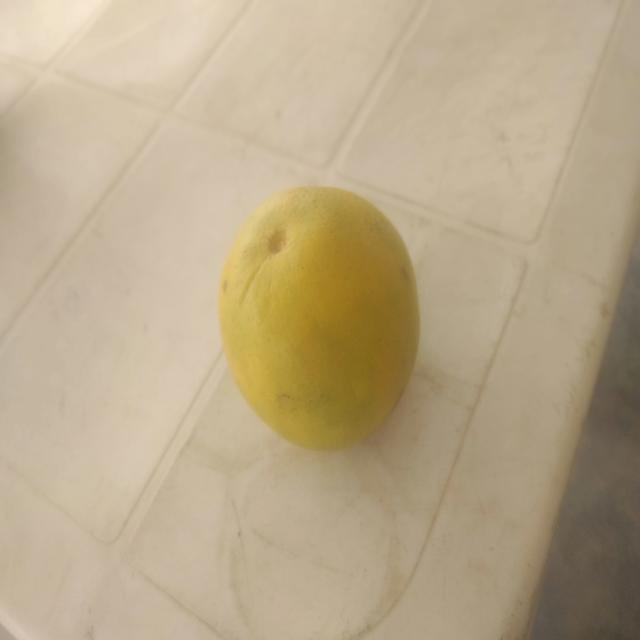agrume: (210, 181, 433, 471)
